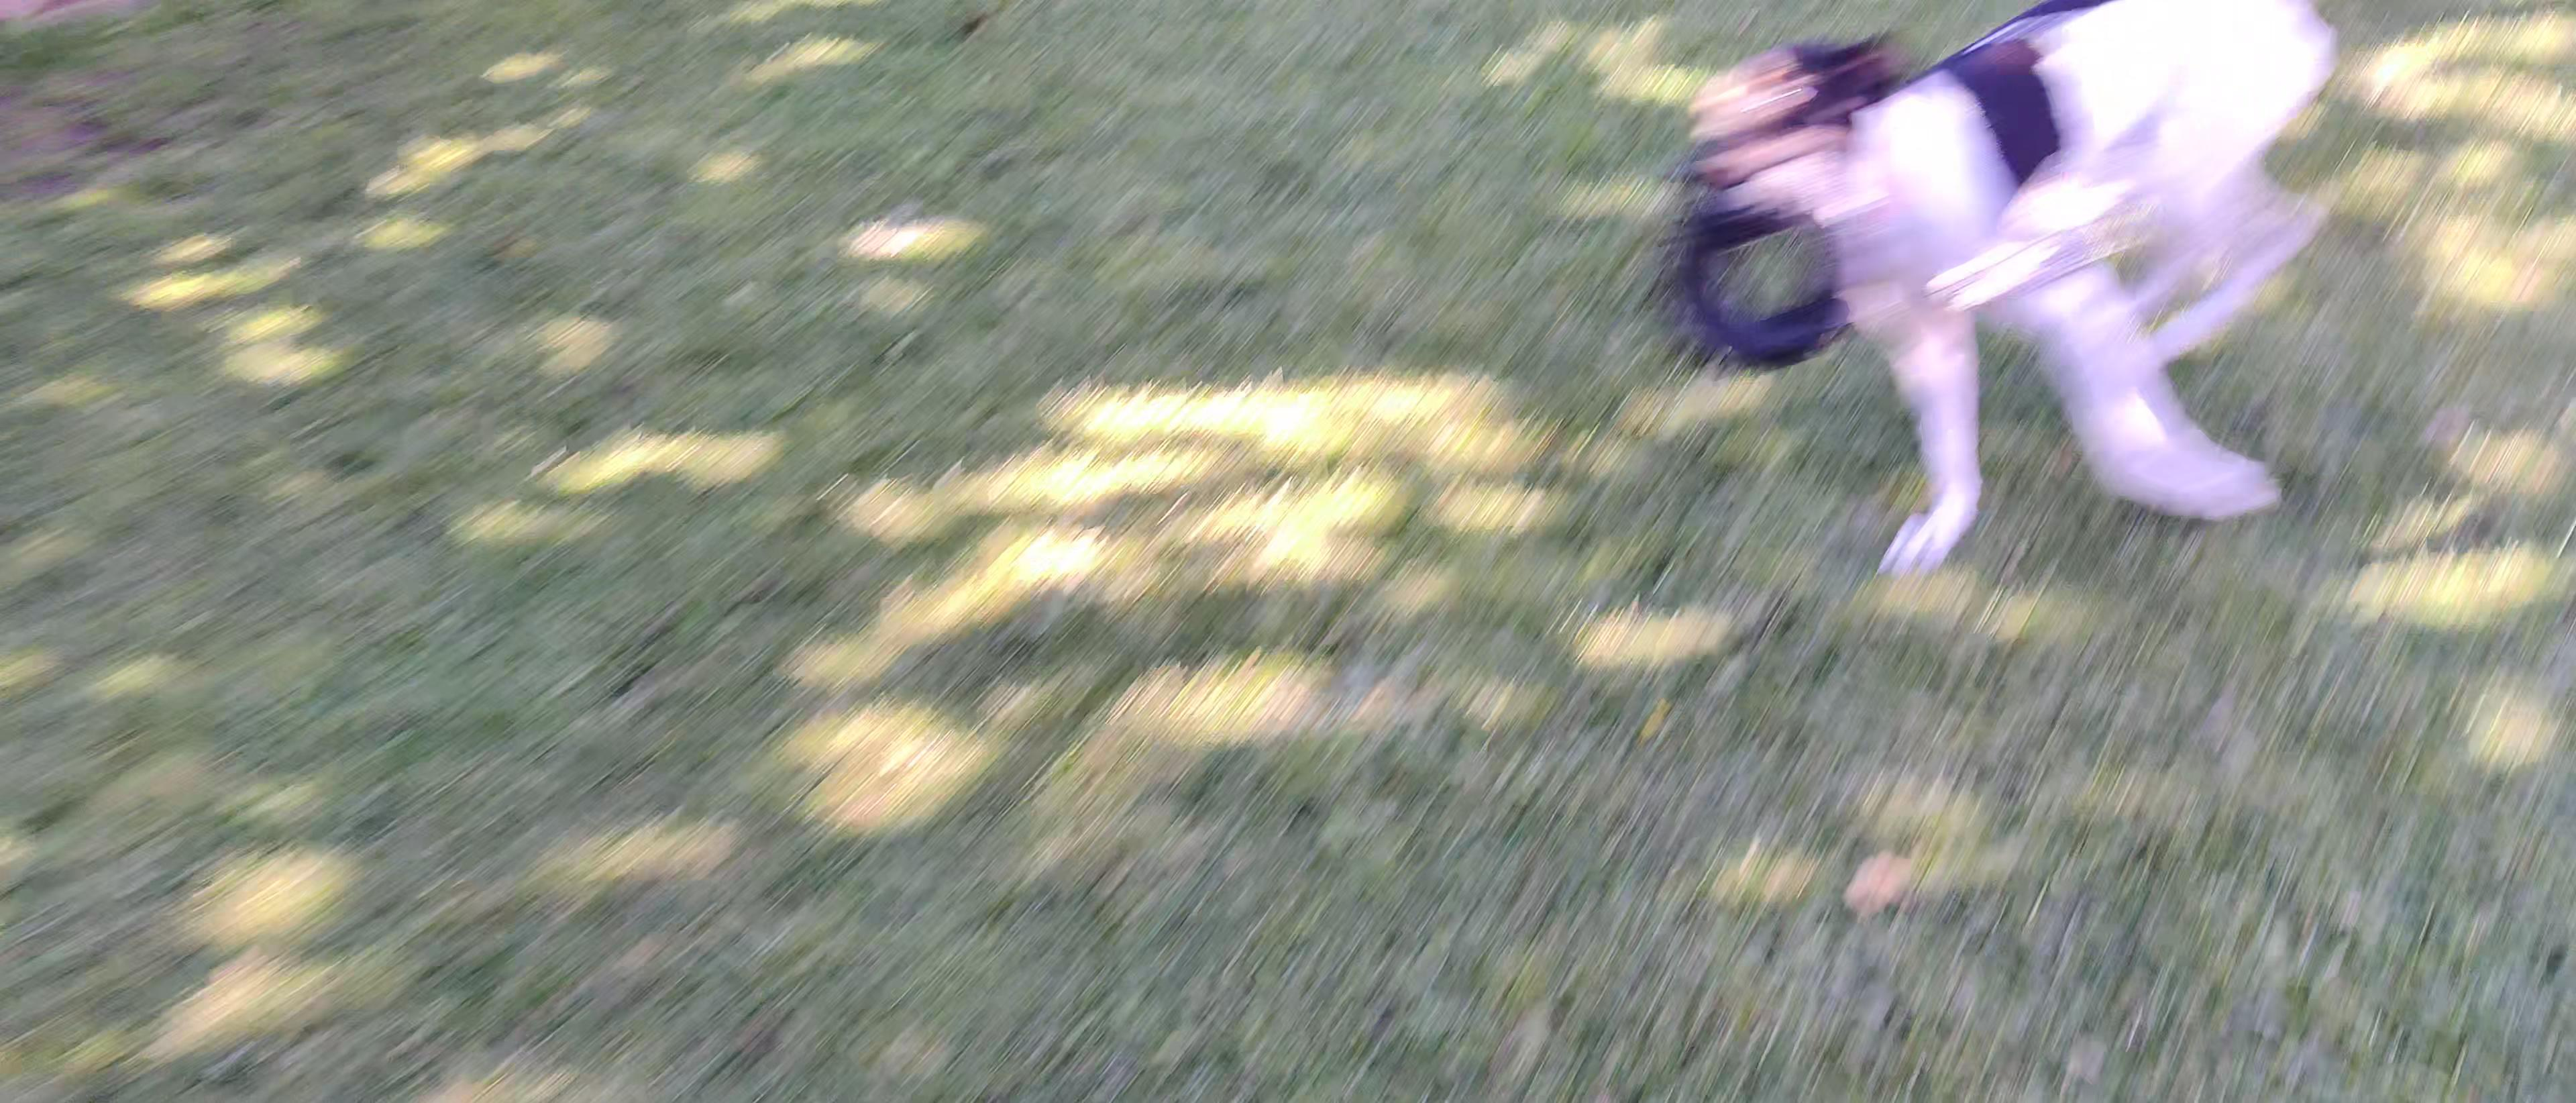Dog: (1658, 0, 2356, 590)
